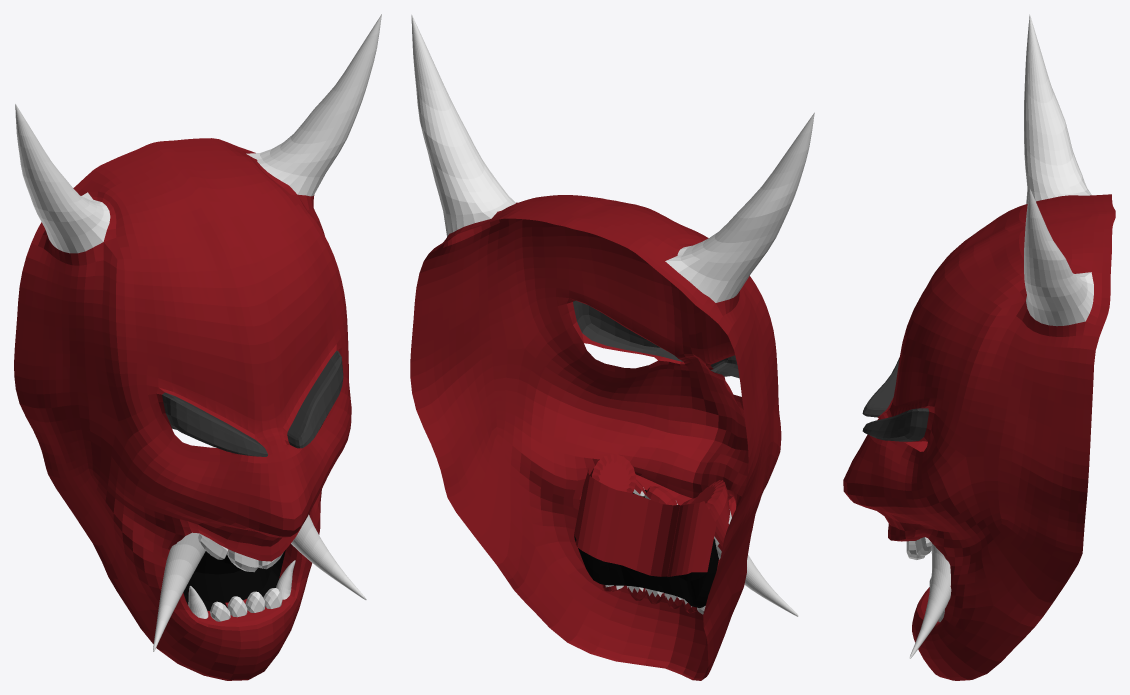
File: mask.fbx
3 renders of one model, left to right at view 1: azimuth 30°, elevation 25°; view 2: azimuth 150°, elevation 25°; view 3: azimuth 270°, elevation 25°, orthographic. The views are drawn at different scales.
Parts seen in each view (by area): view 1: teeth1; view 2: teeth1; view 3: teeth1.
Part boxes in pixels (left/top/right/bottom): teeth1: left=14, top=14, right=381, bottom=680; teeth1: left=410, top=14, right=814, bottom=680; teeth1: left=843, top=14, right=1115, bottom=680.
Bounding box in the file's own units: 282 × 430 × 187.
